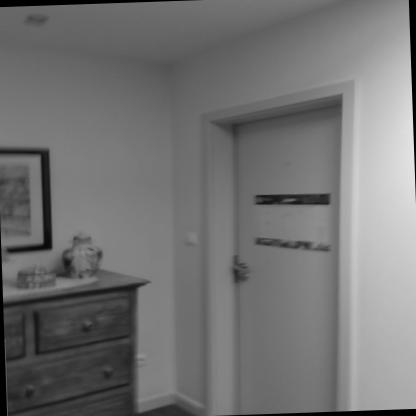closed: (192, 87, 366, 416)
